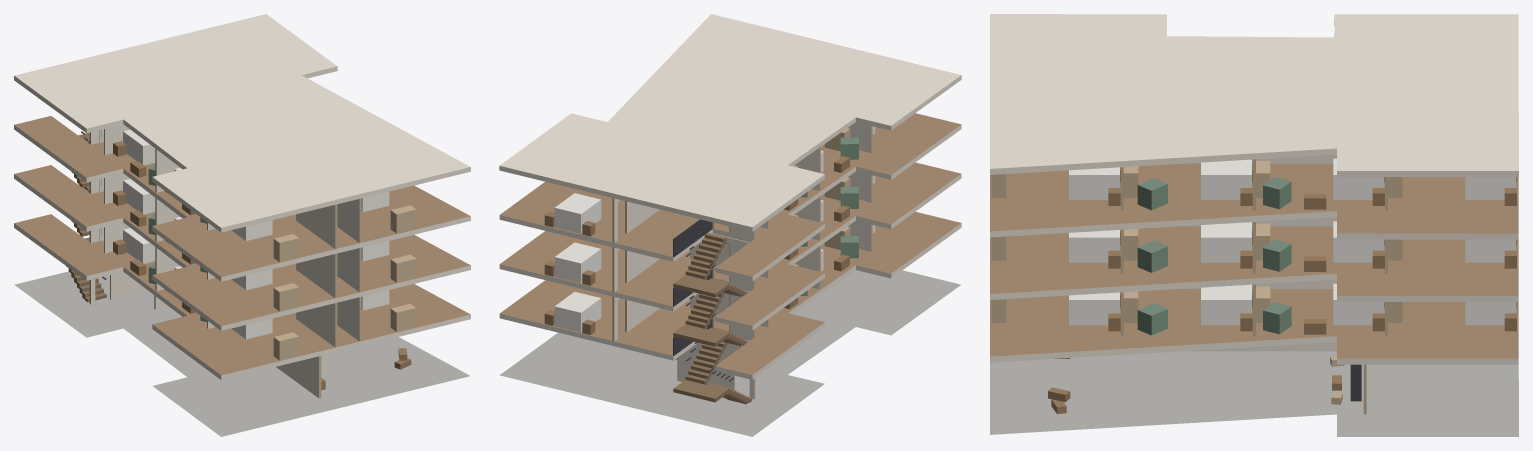
The model's file is interior.glb.
3 views of the same model, side by side, from view 1: azimuth 30°, elevation 25°; view 2: azimuth 150°, elevation 25°; view 3: azimuth 270°, elevation 25° (orthographic). The views are drawn at different scales.
Parts seen in each view (by area): view 1: slabs, partitions, coarse-s3, coarse-s1, coarse-s2, stair; view 2: slabs, partitions, stair, coarse-s1, coarse-s3, coarse-s2; view 3: slabs, coarse-s1, coarse-s2, coarse-s3, partitions, coarse-s0.
Part boxes in pixels (<box>): slabs: <box>14,14,470,436</box>; partitions: <box>89,124,361,398</box>; coarse-s3: <box>113,129,416,262</box>; coarse-s1: <box>113,228,416,360</box>; coarse-s2: <box>113,179,416,311</box>; stair: <box>66,131,106,302</box>; slabs: <box>499,14,961,436</box>; partitions: <box>612,122,872,399</box>; stair: <box>673,219,751,404</box>; coarse-s1: <box>544,225,875,334</box>; coarse-s3: <box>544,126,875,236</box>; coarse-s2: <box>544,175,875,285</box>; slabs: <box>990,14,1518,436</box>; coarse-s1: <box>991,283,1516,335</box>; coarse-s2: <box>991,221,1516,272</box>; coarse-s3: <box>991,158,1516,210</box>; partitions: <box>1120,154,1387,414</box>; coarse-s0: <box>1048,355,1361,414</box>.
Bounding box in the file's own units: 14.54 × 11.5 × 20.69.
